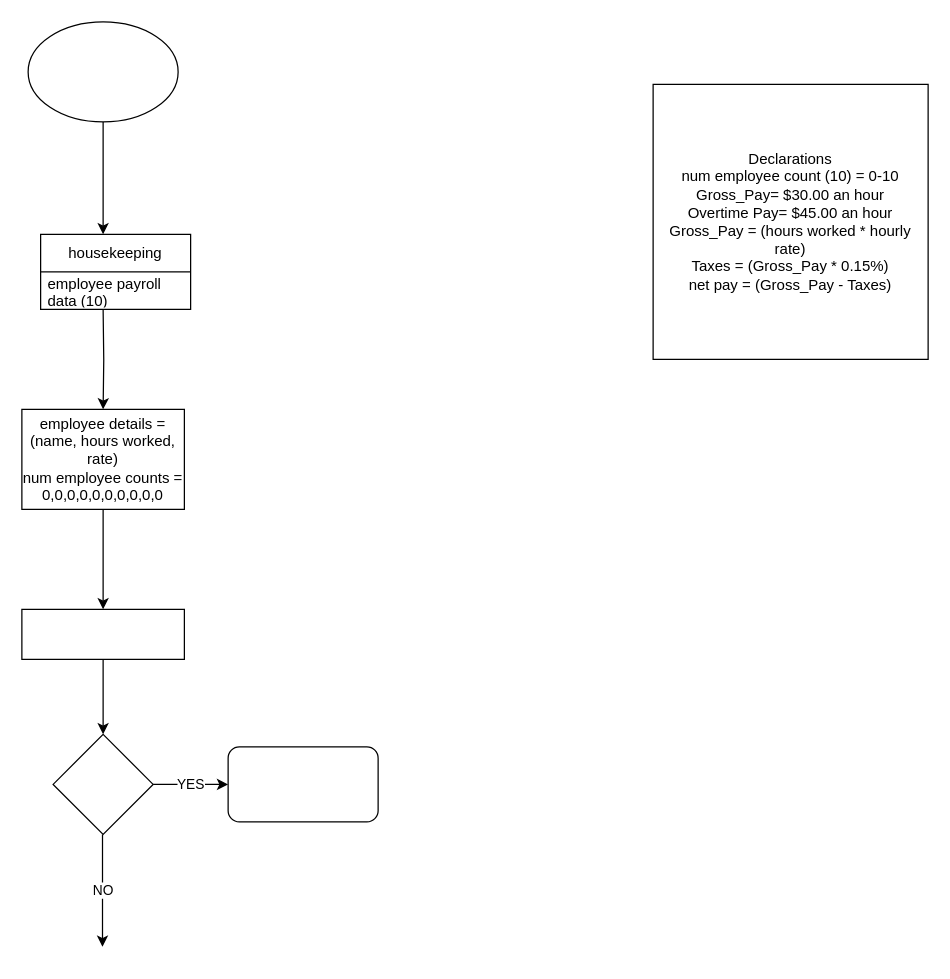
Image size: 950x979. Some labels were removed from this diagram. Each missing label, with the centre of its shape:
"get ready ()" belongs at point 102,633.
"Start" belongs at point 102,71.
